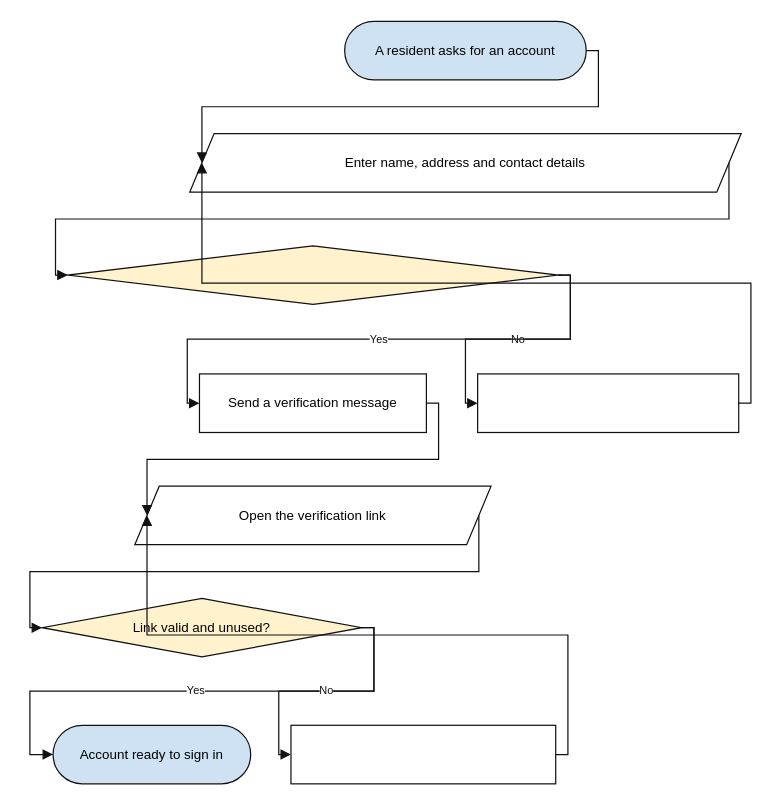
Image size: 782x805. Some labels were removed from this diagram. The shapes that lost their labels are listed below. From the top down, each one's centre as x and y in pixels, then its label:
(x=312, y=274): Particulars complete and consistent?
(x=607, y=402): Point out what must be corrected
(x=423, y=754): Offer a fresh verification message
